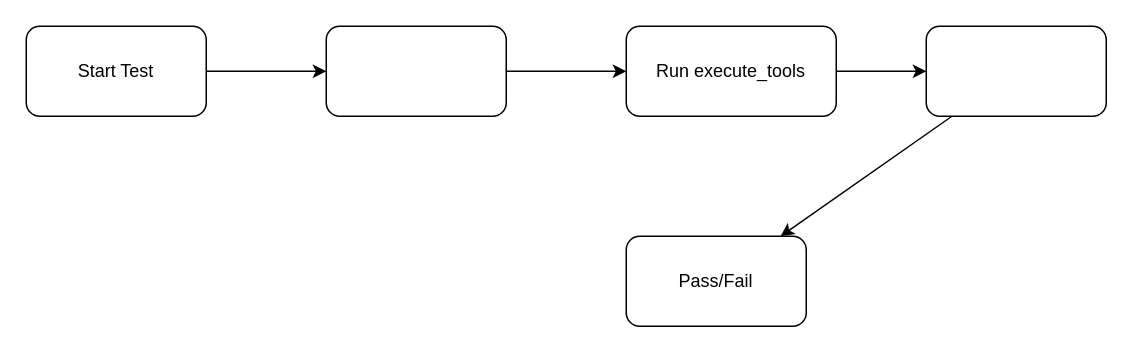
Some shapes in this 1133 by 353 pixel diagram are drawn without their labels. Each missing label, with the centre of its shape:
"Setup Mocks" goes at (415,70).
"Verify Results" goes at (1015,70).
